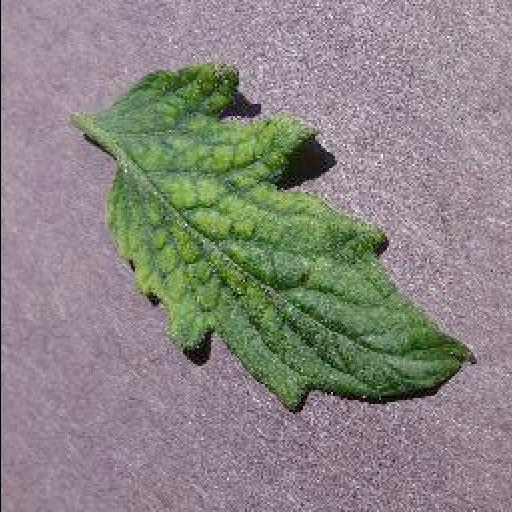Mosaic Virus: (104, 64, 476, 412)
